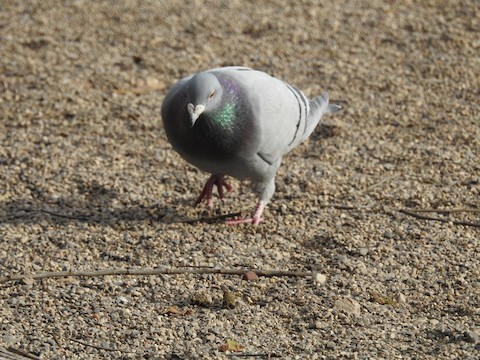pigeon: (154, 62, 345, 233)
